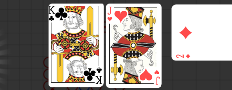JH: (154, 69, 161, 86)
KC: (94, 65, 103, 85)
